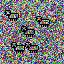sheep: (4, 9, 19, 22), (36, 15, 50, 28), (21, 25, 35, 37), (25, 41, 39, 53), (11, 42, 24, 53)
